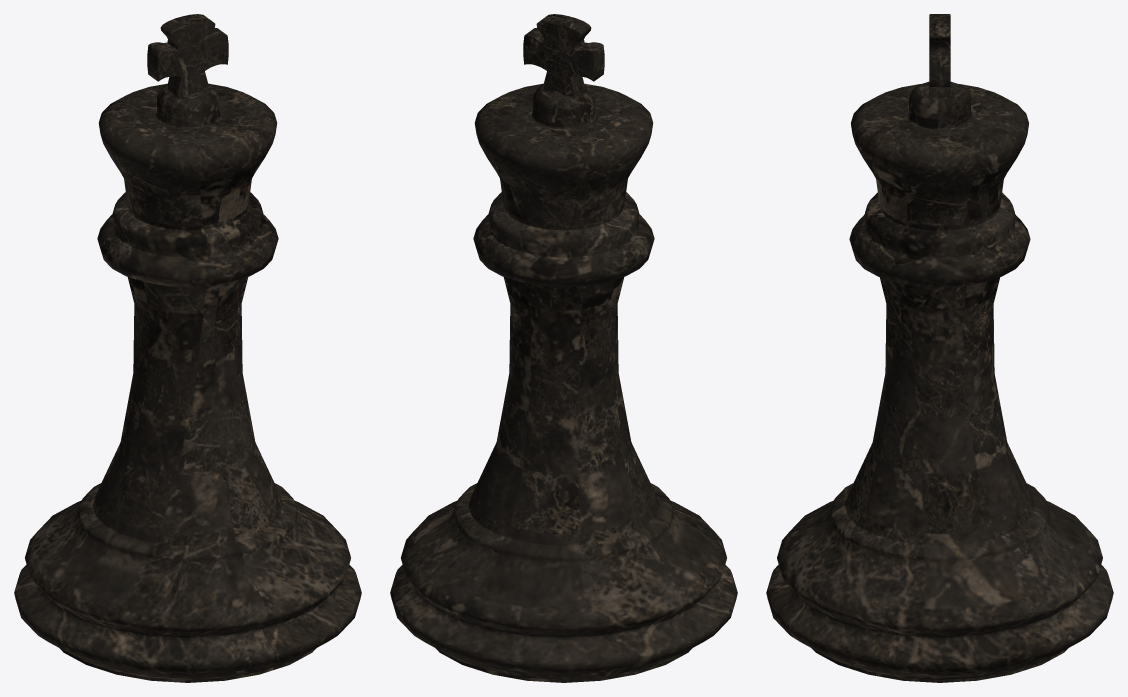
Rendered from mermer_k_b.glb.
3 views of the same model, side by side, from view 1: azimuth 30°, elevation 25°; view 2: azimuth 150°, elevation 25°; view 3: azimuth 270°, elevation 25° (orthographic).
Parts seen in each view (by area): view 1: SM_King1; view 2: SM_King1; view 3: SM_King1.
Part boxes in pixels (<box>): SM_King1: <box>14,14,361,682</box>; SM_King1: <box>390,14,737,682</box>; SM_King1: <box>766,14,1113,682</box>.
Size of the model in its own units: 4.67 by 8.89 by 4.65.
Materials: 1 (1 with a texture image).
